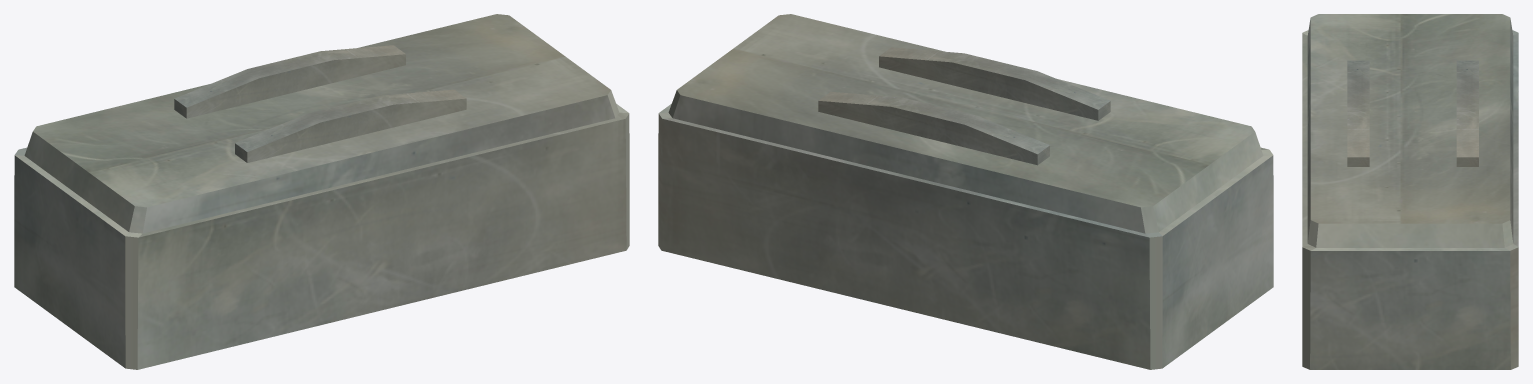
The model's file is toolbox.fbx.
3 views of the same model, side by side, from view 1: azimuth 30°, elevation 25°; view 2: azimuth 150°, elevation 25°; view 3: azimuth 270°, elevation 25° (orthographic). The views are drawn at different scales.
Visible parts, largest first — view 1: toolbox; view 2: toolbox; view 3: toolbox.
Part boxes in pixels (x1,y1,x2,y2): toolbox: (14, 14, 629, 369); toolbox: (658, 14, 1273, 369); toolbox: (1302, 14, 1518, 369).
Size of the model in its own units: 0.5746 by 0.1943 by 0.2372.
